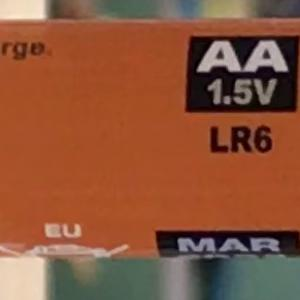LR6: (199, 115, 283, 164)
